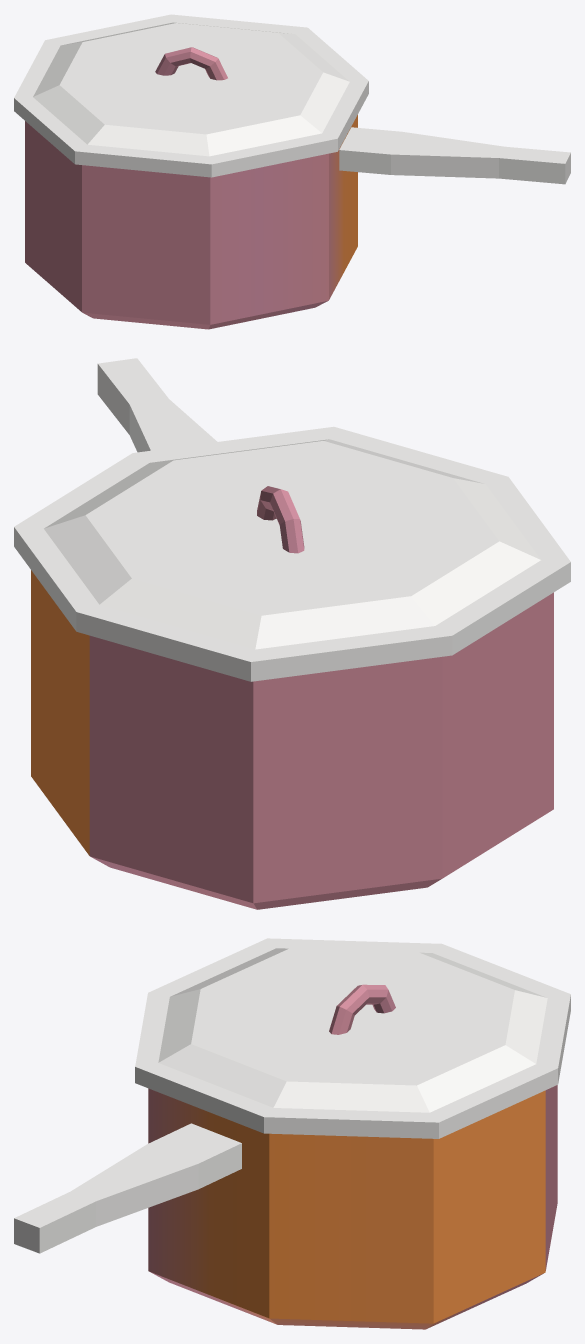
The model's file is Kitchen_2_Pan.fbx.
3 renders of one model, top to bottom at view 1: azimuth 30°, elevation 25°; view 2: azimuth 150°, elevation 25°; view 3: azimuth 270°, elevation 25°, orthographic. The views are drawn at different scales.
Visible parts, largest first — view 1: Kitchen_2_Pan; view 2: Kitchen_2_Pan; view 3: Kitchen_2_Pan.
Part boxes in pixels (x1,y1,x2,y2): Kitchen_2_Pan: [14, 14, 570, 329]; Kitchen_2_Pan: [14, 358, 570, 909]; Kitchen_2_Pan: [14, 938, 570, 1329].
Bounding box in the file's own units: 43.69 × 22.18 × 41.54.
